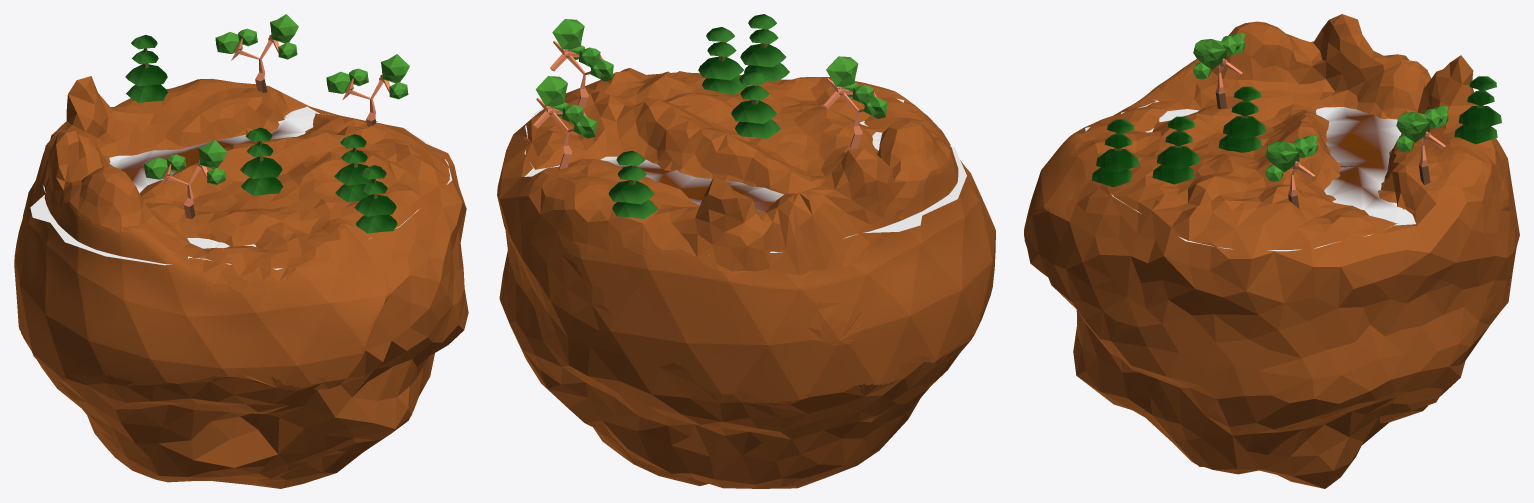
The model's file is islandTest.fbx.
The picture shows the model from 3 angles, left to right: view 1: azimuth 30°, elevation 25°; view 2: azimuth 150°, elevation 25°; view 3: azimuth 270°, elevation 25°; orthographic projection. The views are drawn at different scales.
Parts seen in each view (by area): view 1: Icosphere, Plane, Cube, Cube.001, Cube.002, Plane.002, Plane.004, Plane.003, Plane.001; view 2: Icosphere, Plane, Cube.001, Cube, Cube.002, Plane.003, Plane.004, Plane.001, Plane.002; view 3: Icosphere, Plane, Plane.001, Plane.003, Plane.004, Plane.002, Cube.001, Cube, Cube.002.
Part boxes in pixels (box(x1,y1,x2,y2)): Icosphere: box(14, 76, 468, 488); Plane: box(30, 106, 452, 269); Cube: box(144, 140, 227, 219); Cube.001: box(215, 14, 298, 92); Cube.002: box(326, 54, 409, 126); Plane.002: box(354, 165, 397, 233); Plane.004: box(240, 127, 283, 195); Plane.003: box(125, 35, 167, 102); Plane.001: box(334, 134, 372, 202); Icosphere: box(497, 68, 995, 488); Plane: box(524, 99, 966, 252); Cube.001: box(533, 76, 596, 169); Cube: box(824, 56, 887, 149); Cube.002: box(550, 19, 613, 107); Plane.003: box(608, 150, 658, 218); Plane.004: box(731, 70, 780, 138); Plane.001: box(698, 27, 747, 94); Plane.002: box(740, 14, 789, 80); Icosphere: box(1024, 14, 1519, 488); Plane: box(1085, 86, 1415, 251); Plane.001: box(1152, 116, 1199, 184); Plane.003: box(1454, 76, 1501, 144); Plane.004: box(1218, 86, 1266, 152); Plane.002: box(1092, 119, 1139, 186); Cube.001: box(1396, 106, 1448, 184); Cube: box(1193, 33, 1245, 109); Cube.002: box(1265, 135, 1317, 208).
Size of the model in its own units: 1910 by 1806 by 1993.
